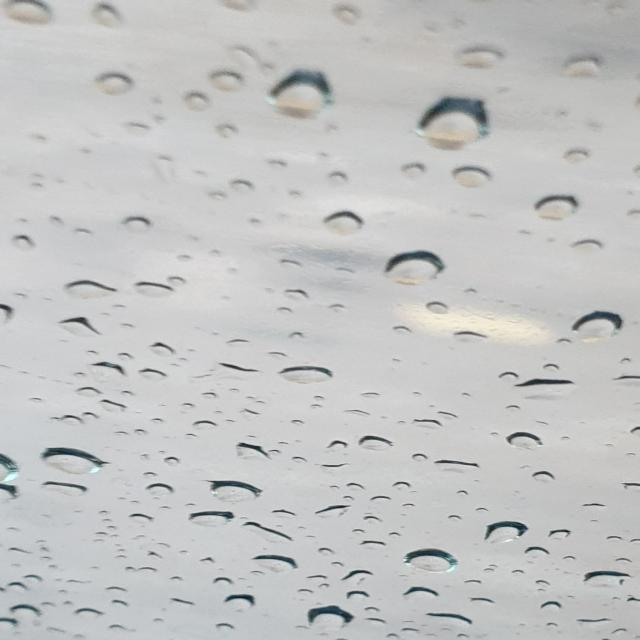raindrop: (382, 96, 502, 158), (264, 66, 346, 118), (375, 242, 446, 287), (523, 184, 589, 228), (569, 308, 640, 348), (508, 363, 588, 395), (224, 41, 282, 78), (478, 516, 534, 554), (270, 362, 348, 389), (402, 544, 472, 574), (59, 268, 120, 302), (316, 204, 376, 238), (208, 475, 266, 510), (124, 277, 182, 310), (42, 446, 110, 474), (433, 165, 508, 189), (550, 50, 608, 80), (376, 154, 432, 184), (306, 604, 358, 636), (0, 0, 57, 29), (80, 1, 138, 29), (442, 46, 502, 73), (152, 266, 206, 296), (172, 84, 217, 118), (548, 147, 610, 171), (244, 521, 299, 547), (54, 311, 100, 342), (33, 478, 93, 501), (536, 326, 588, 352), (94, 68, 140, 97), (348, 430, 398, 456), (182, 502, 226, 531), (578, 569, 636, 591), (214, 360, 263, 386), (384, 318, 426, 348), (557, 233, 603, 260), (431, 456, 486, 478), (104, 120, 158, 142), (252, 550, 306, 572), (505, 424, 542, 456), (336, 1, 374, 31), (194, 120, 240, 144), (396, 587, 444, 610), (434, 398, 472, 427), (421, 610, 478, 629), (84, 358, 130, 381), (216, 0, 260, 24), (121, 213, 158, 241), (0, 230, 39, 256), (199, 74, 244, 96), (448, 326, 488, 350), (66, 222, 104, 247), (327, 262, 365, 286), (232, 171, 260, 200), (144, 335, 174, 362), (338, 568, 378, 588), (221, 338, 263, 357), (240, 438, 264, 471), (224, 594, 260, 616), (282, 324, 316, 347), (14, 600, 49, 622), (538, 523, 574, 544), (280, 283, 314, 305), (354, 392, 400, 408), (409, 414, 442, 436), (426, 300, 462, 320), (103, 622, 143, 640), (316, 505, 352, 524), (510, 548, 552, 564), (328, 167, 347, 202), (262, 350, 294, 370), (574, 616, 614, 632), (64, 607, 109, 621), (96, 399, 127, 419), (0, 298, 18, 332), (0, 446, 18, 480), (528, 470, 562, 488), (0, 480, 21, 508), (200, 552, 228, 573), (289, 418, 318, 438), (576, 498, 609, 515), (323, 300, 351, 320), (290, 582, 318, 602), (199, 381, 224, 403), (162, 596, 196, 612), (100, 580, 127, 600), (110, 599, 138, 618), (48, 414, 83, 429), (342, 476, 368, 496), (530, 598, 562, 614), (536, 357, 566, 374), (318, 463, 357, 476), (146, 484, 174, 502), (338, 588, 374, 602), (0, 618, 25, 638), (305, 546, 336, 562), (311, 560, 349, 573), (356, 538, 390, 552), (282, 263, 308, 281), (497, 404, 526, 420), (611, 480, 640, 496), (72, 385, 105, 399), (199, 578, 232, 592), (463, 596, 501, 608), (64, 577, 102, 589), (256, 450, 286, 465), (1, 546, 32, 560), (144, 366, 168, 384), (376, 528, 412, 540), (272, 506, 300, 521), (390, 478, 416, 494), (368, 494, 393, 510), (444, 488, 469, 504), (128, 514, 156, 528), (124, 425, 150, 440), (494, 372, 520, 387), (214, 621, 240, 636), (159, 453, 184, 468), (156, 574, 187, 586), (199, 416, 222, 432), (534, 574, 557, 590), (358, 510, 384, 524), (136, 566, 166, 578), (85, 528, 114, 540), (240, 406, 258, 424), (328, 438, 346, 456), (561, 550, 584, 564), (248, 568, 268, 584), (136, 469, 160, 482), (6, 582, 32, 594), (91, 506, 117, 518), (472, 502, 497, 514), (19, 574, 48, 584), (76, 408, 96, 422), (606, 626, 634, 636), (298, 404, 332, 412), (44, 563, 74, 572), (22, 398, 44, 410), (600, 534, 624, 545), (302, 394, 334, 402), (107, 431, 130, 442), (150, 414, 165, 430), (288, 454, 312, 464), (292, 576, 330, 582), (348, 528, 364, 542), (114, 389, 130, 402), (628, 533, 640, 550), (616, 556, 634, 567), (401, 502, 416, 515), (146, 550, 162, 562), (177, 401, 194, 412), (411, 453, 428, 464), (120, 565, 137, 576), (446, 514, 464, 524), (104, 522, 118, 533), (36, 556, 61, 562)
